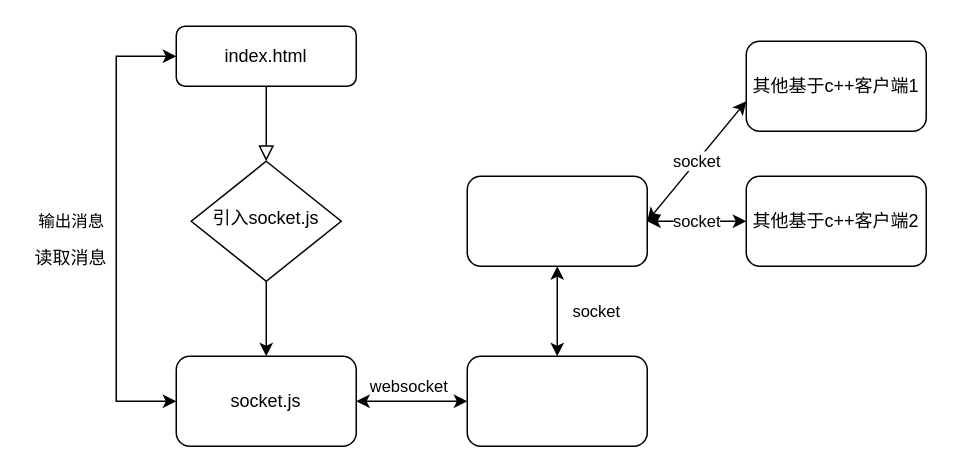
Some shapes in this 953 by 473 pixel diagram are drawn without their labels. Here are the shapes that lost their labels. From the top down, the centre of each, then its label:
At pixel 556 220: "总服务端(c++)".
At pixel 556 400: "运行于服务器的 socket.server.js".
